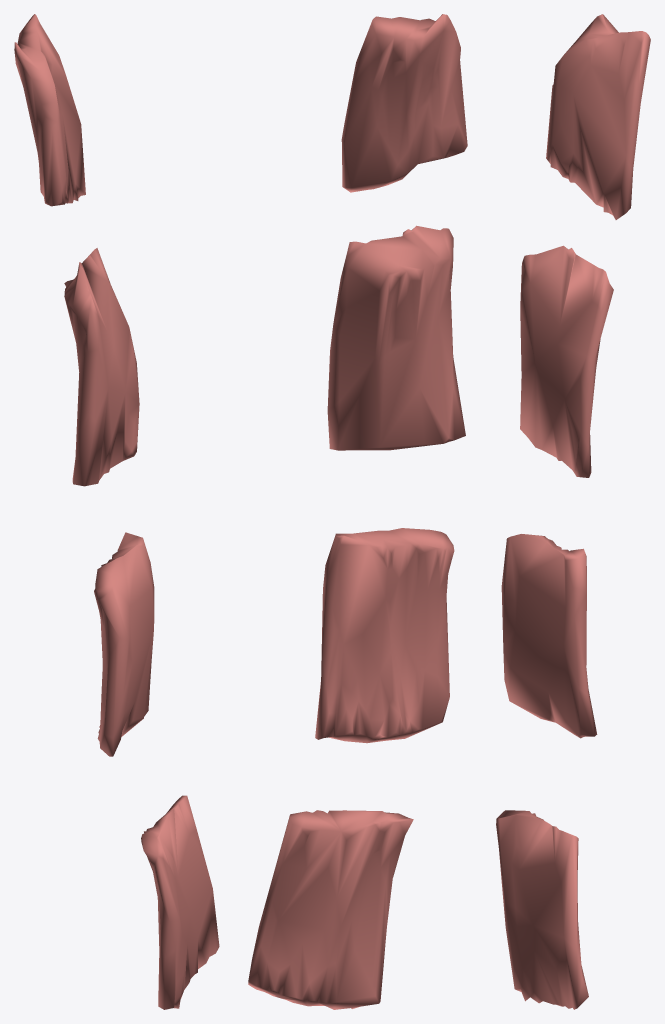
3 views of the same model, side by side, from view 1: azimuth 30°, elevation 25°; view 2: azimuth 150°, elevation 25°; view 3: azimuth 270°, elevation 25° (orthographic). The views are drawn at different scales.
Visible parts, largest first — view 1: ZA_76108407663ec8a9; view 2: ZA_76108407663ec8a9; view 3: ZA_76108407663ec8a9.
Boxes of the visible parts, bbox=[...] form: ZA_76108407663ec8a9: bbox=[14, 14, 219, 1009]; ZA_76108407663ec8a9: bbox=[248, 14, 467, 1009]; ZA_76108407663ec8a9: bbox=[496, 14, 650, 1009].
Size of the model in its own units: 0.0241 by 0.1165 by 0.0175.
